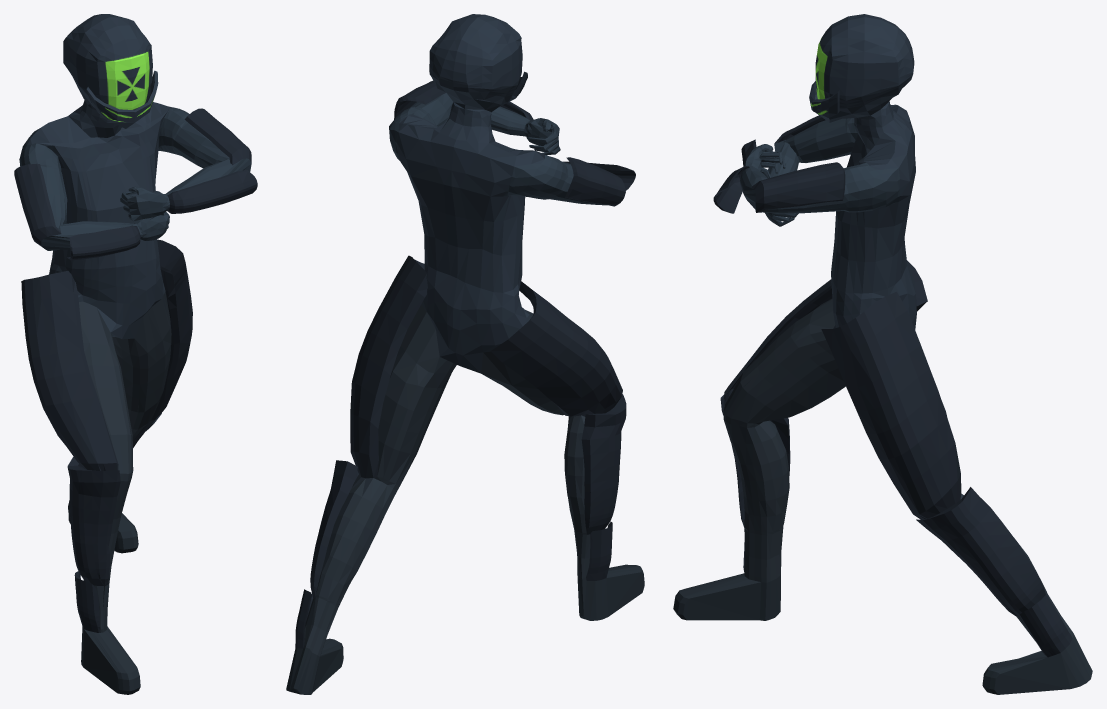
File: Bastion_WL_000027.obj
3 renders of one model, left to right at view 1: azimuth 30°, elevation 25°; view 2: azimuth 150°, elevation 25°; view 3: azimuth 270°, elevation 25°, orthographic. The views are drawn at different scales.
Visible parts, largest first — view 1: Cube.002; view 2: Cube.002; view 3: Cube.002.
Boxes of the visible parts, x1,y1,x2,y2 form: Cube.002: (14,14,257,694); Cube.002: (286,14,644,694); Cube.002: (673,14,1092,694).
Bounding box in the file's own units: 1.31 × 3.59 × 2.16.
